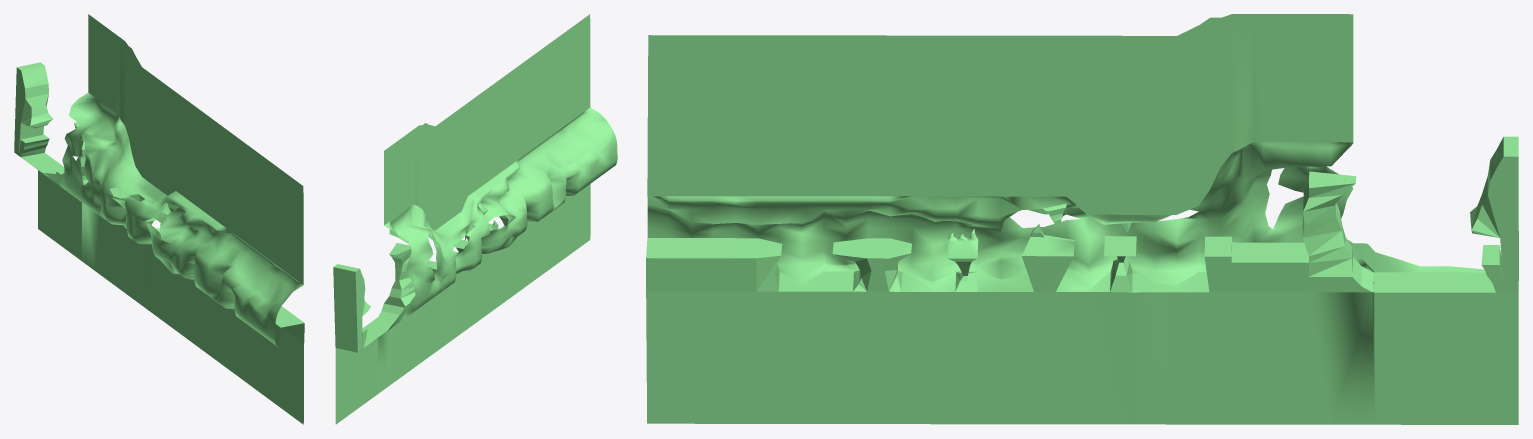
Rendered from Escape Mash.FBX.
3 renders of one model, left to right at view 1: azimuth 30°, elevation 25°; view 2: azimuth 150°, elevation 25°; view 3: azimuth 270°, elevation 25°, orthographic. The views are drawn at different scales.
Visible parts, largest first — view 1: part 6; view 2: part 6; view 3: part 6.
Part boxes in pixels (box(x1,y1,x2,y2)): part 6: box(14, 14, 304, 424); part 6: box(333, 14, 617, 424); part 6: box(646, 14, 1518, 424).
Size of the model in its own units: 775 by 5194 by 10007.
